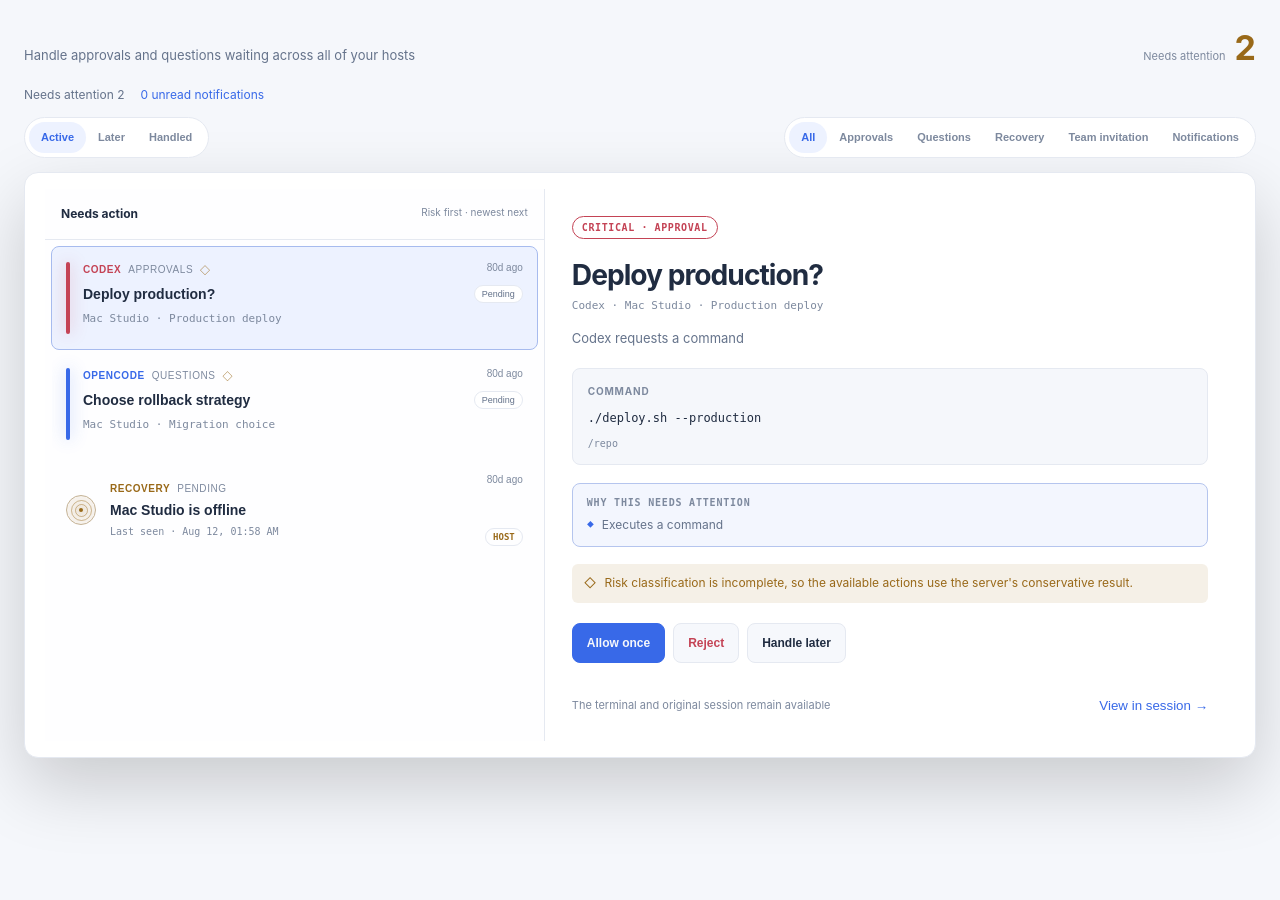
Test case: AttentionInboxView › renders risk-prioritized active rows and filters loaded kinds
Click the button with test id "attention-kind-question": (944, 137) [905,122,983,153]
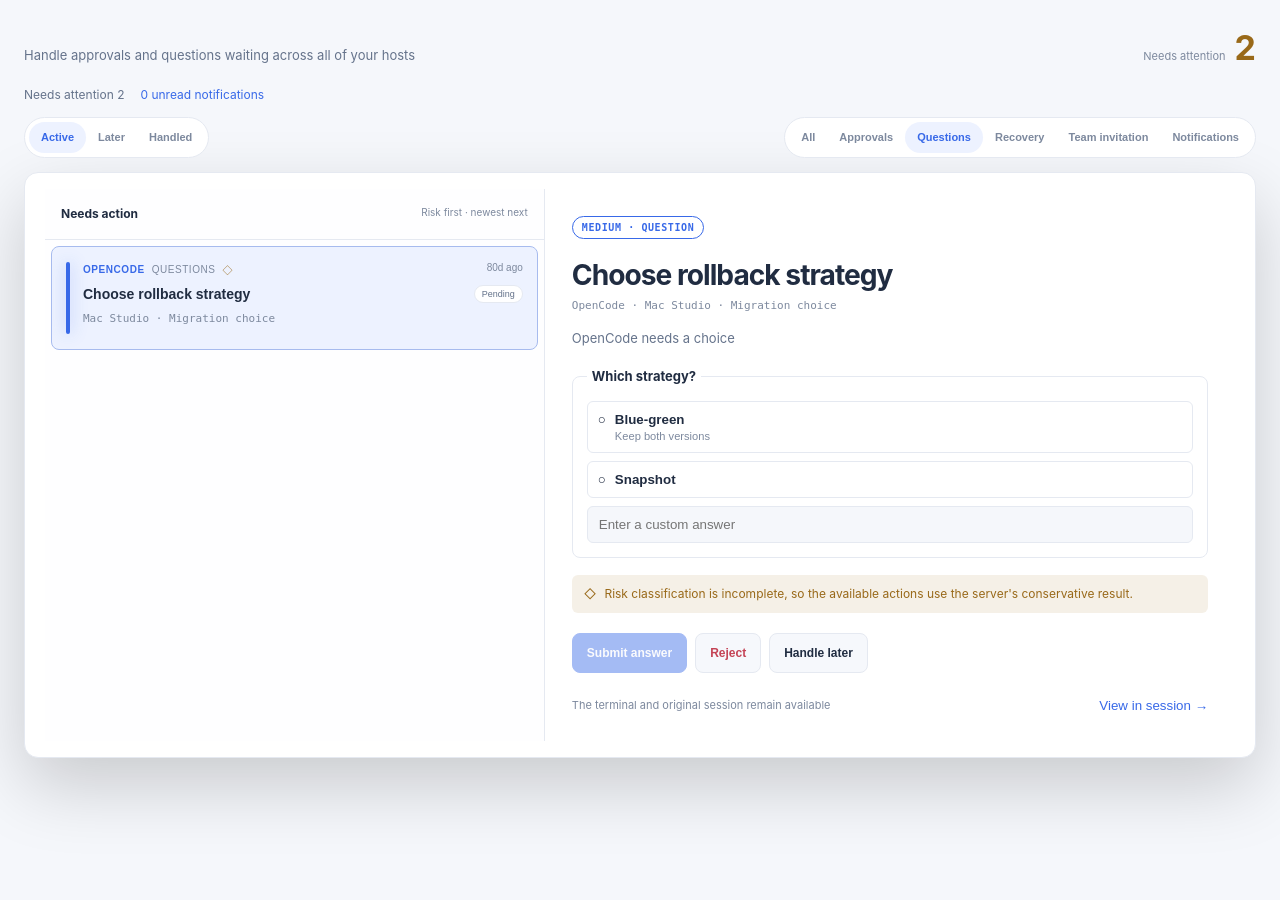
Now the element with test id "attention-detail" shows "Choose rollback strategy", box [572,258,893,292]
Click the button with test id "attention-lifecycle-snoozed": (111, 137) [86,122,137,153]
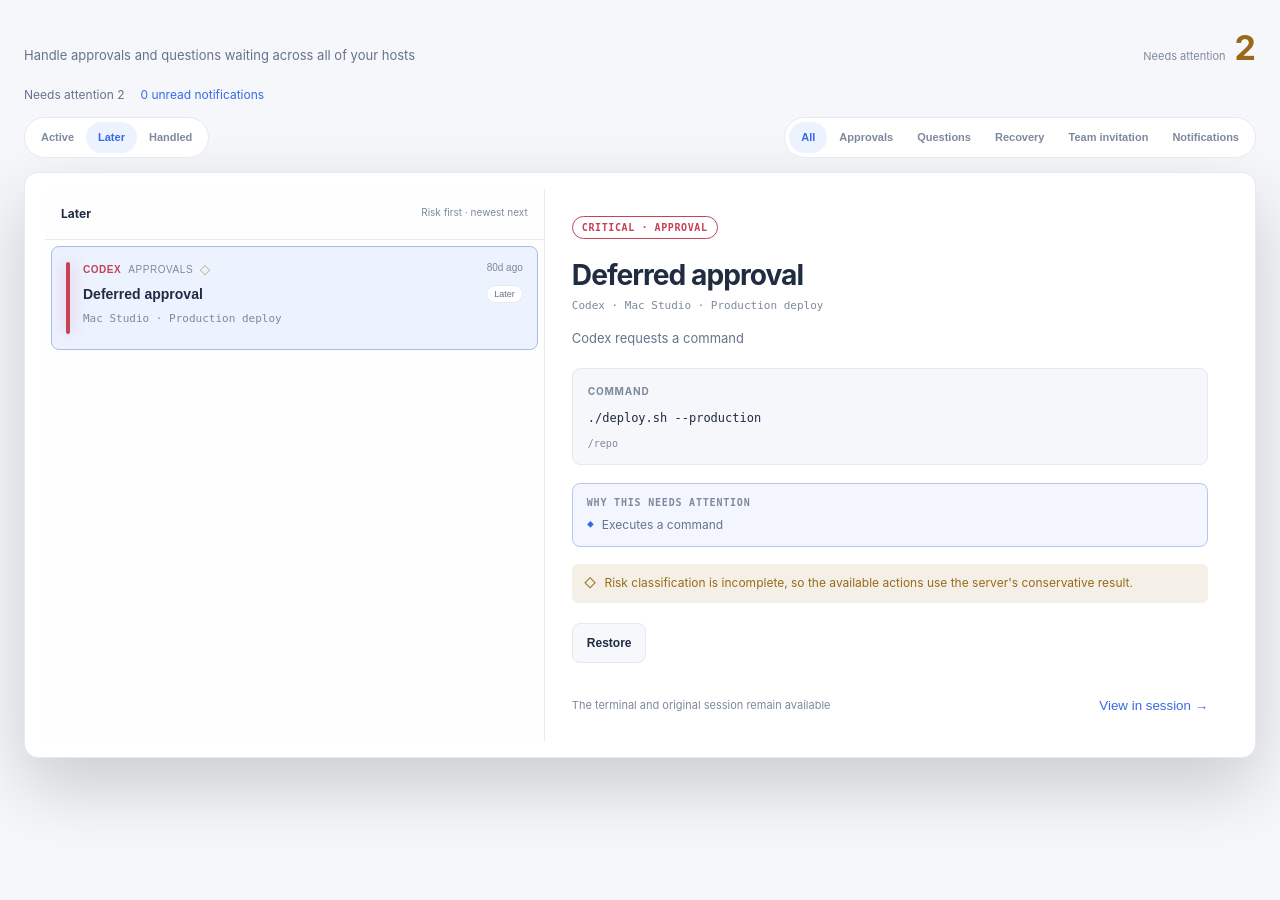
Now the text "Deferred approval" is shown, box [83,286,203,302]
Click the button with test id "attention-lifecycle-handled": (171, 137) [137,122,204,153]
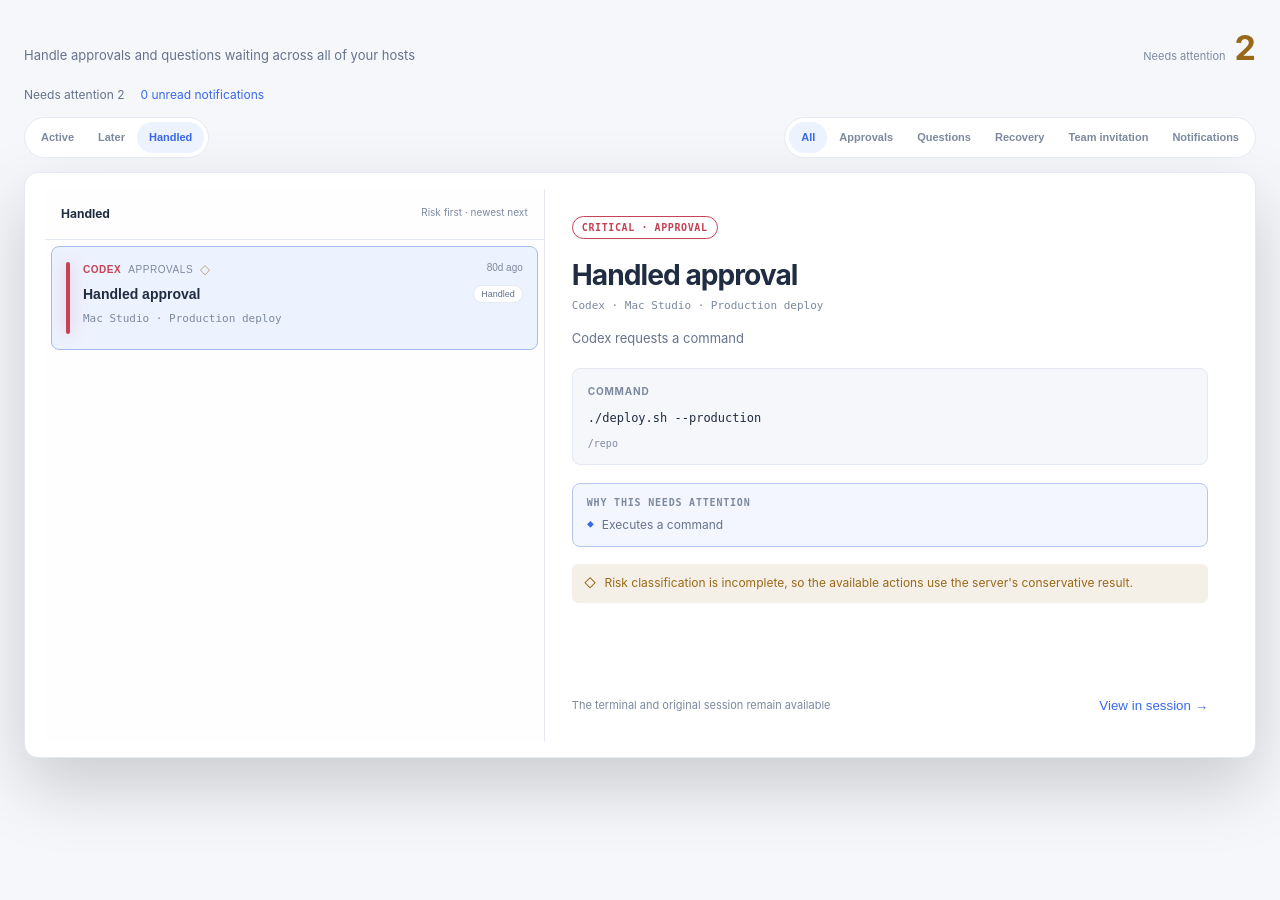
Now the text "Handled approval" is shown, box [83,286,200,302]
